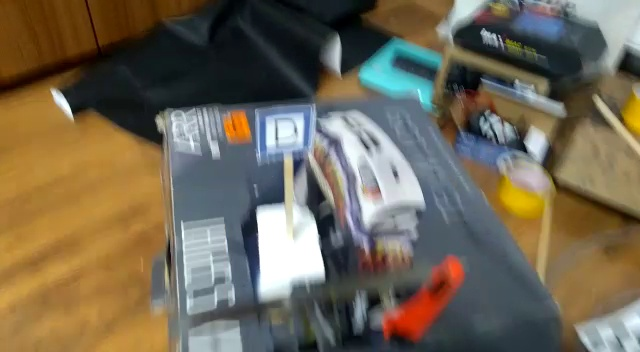durak: (252, 108, 310, 154)
